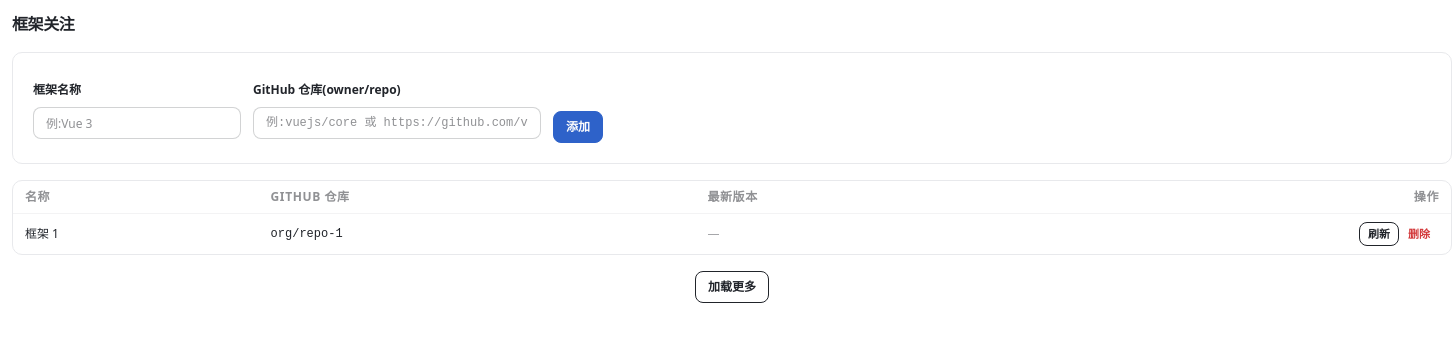
Test: FrameworkManager 列表加载 › 加载更多追加下一页记录
Click the button "加载更多": {"x": 732, "y": 287} [695,271,769,303]
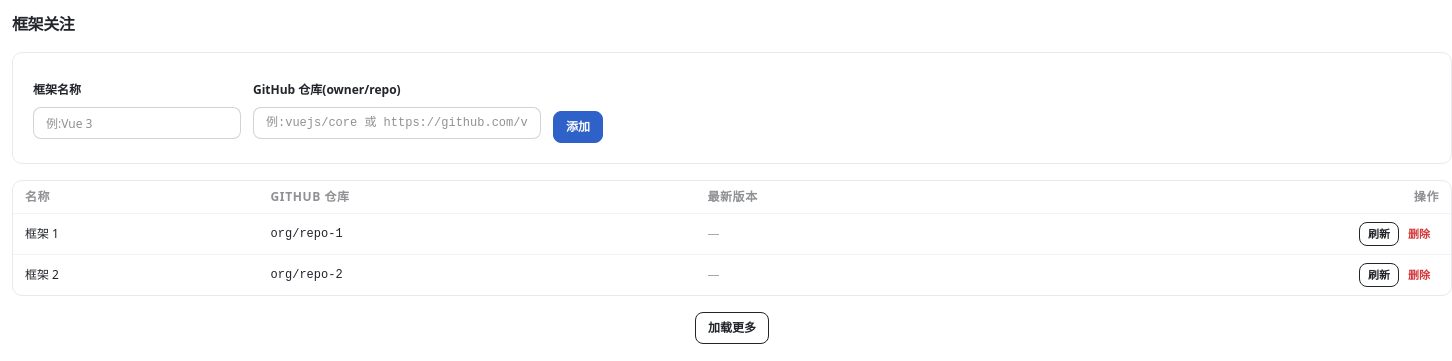
Expected: the text "框架 1" is shown, [13,214,259,255]
Now the text "框架 2" is shown, box [13,255,259,295]
